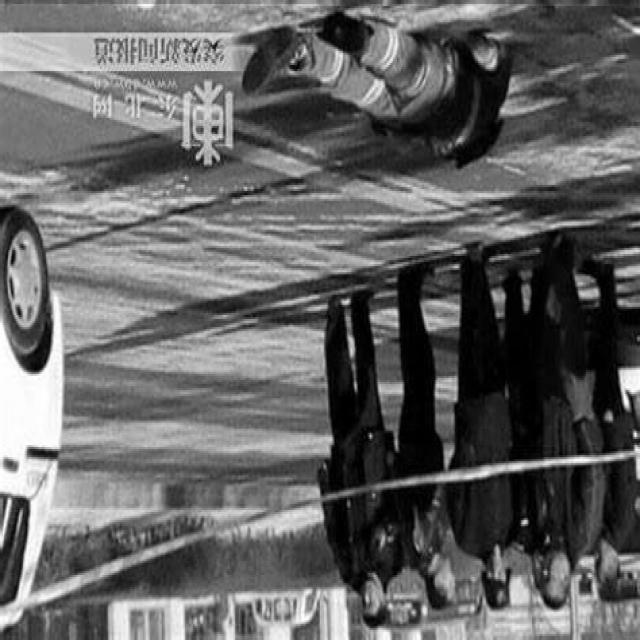nofight: (237, 7, 503, 190), (310, 295, 408, 621), (448, 251, 526, 615), (528, 248, 592, 614), (387, 259, 451, 617), (593, 268, 640, 598)
